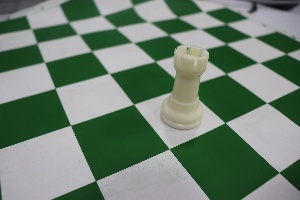white_rook: (156, 34, 205, 137)
